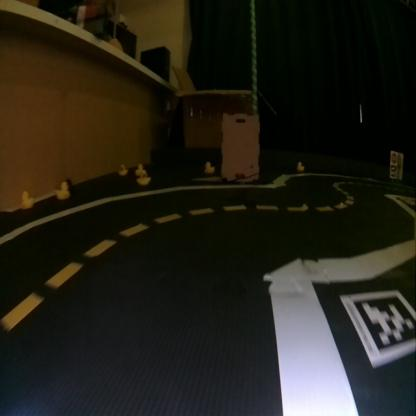Duckie: (54, 182, 70, 199), (139, 172, 149, 184), (22, 194, 31, 207), (117, 164, 127, 175), (135, 164, 145, 175), (205, 161, 213, 173), (297, 162, 303, 170)
QR code: (348, 288, 414, 358), (390, 164, 396, 177)
Stop sign: (391, 150, 397, 162)
